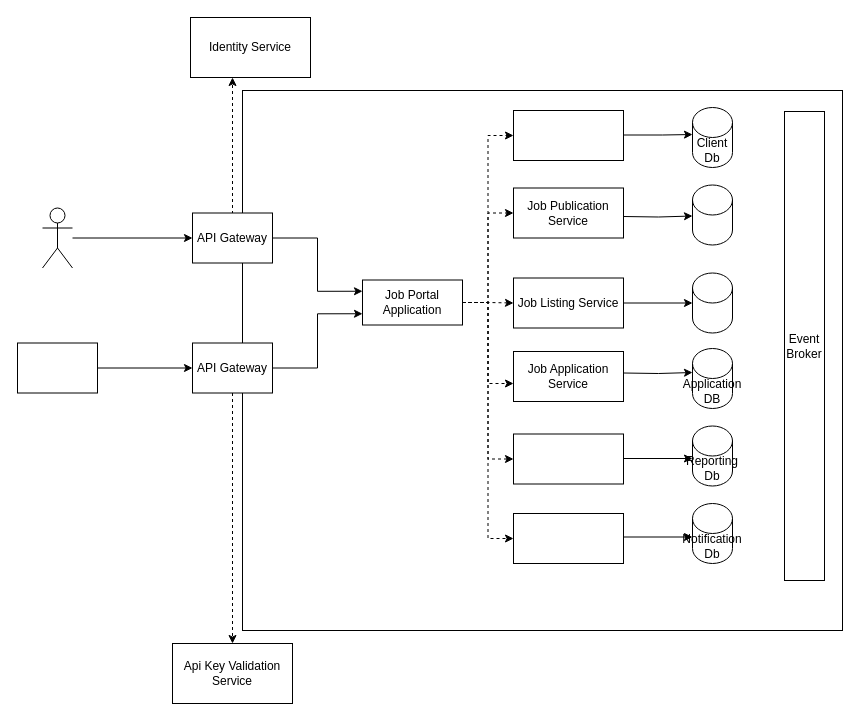
Image size: 860x721. Some labels were removed from this diagram. Here are the shapes that lost their labels. From the top down, the box of each, then its label:
(512, 110, 624, 160): Client Registration Service
(692, 184, 732, 245): Jobs DB
(42, 207, 72, 268): User
(692, 272, 732, 333): Job Listing DB
(16, 342, 98, 393): Client HRM System
(512, 433, 624, 484): Reporting Service
(512, 512, 624, 564): Notification Service
